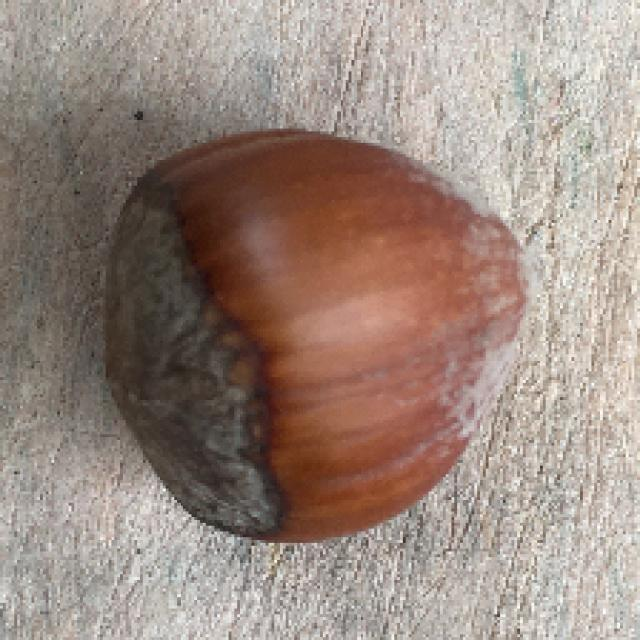qualityHazelnut: (100, 128, 554, 546)
